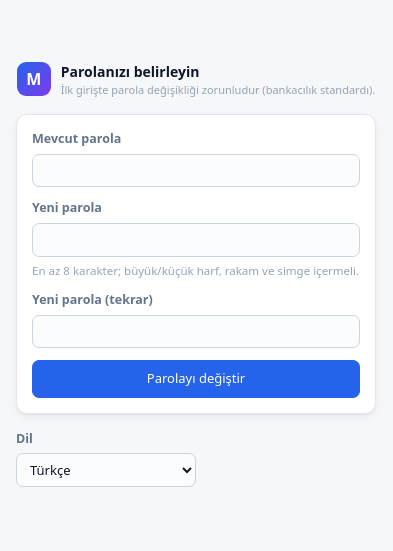
first-run bootstrap change-password (banking standard) › shows the policy violations the BFF returns, in Turkish
The image size is (393, 551).
Type "admin123" into the password field labelled "Mevcut parola" at [196, 171], box [32,154,360,187]
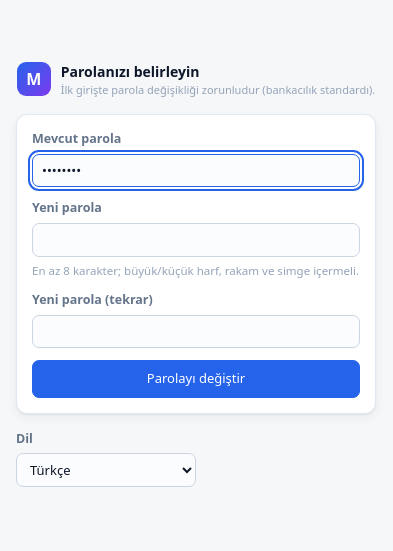
Type "admin123" into the password field labelled "Yeni parola" at [196, 240], box [32,223,360,257]
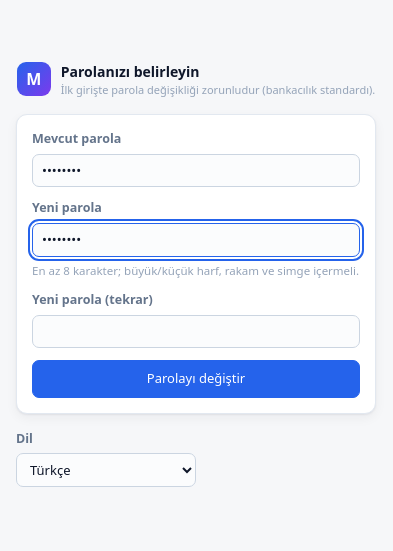
Type "admin123" into the password field labelled "Yeni parola (tekrar)" at [196, 331], box [32,315,360,348]
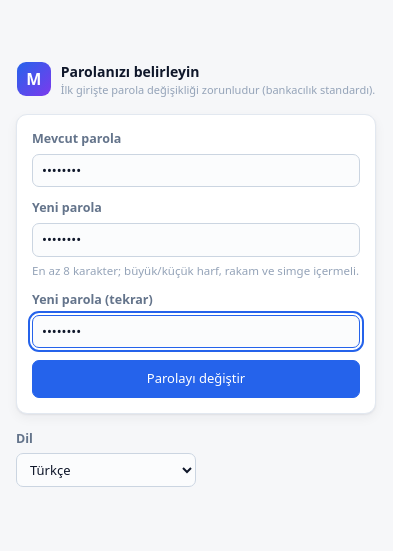
Click the button "Parolayı değiştir" at [196, 379], box [32,360,360,398]
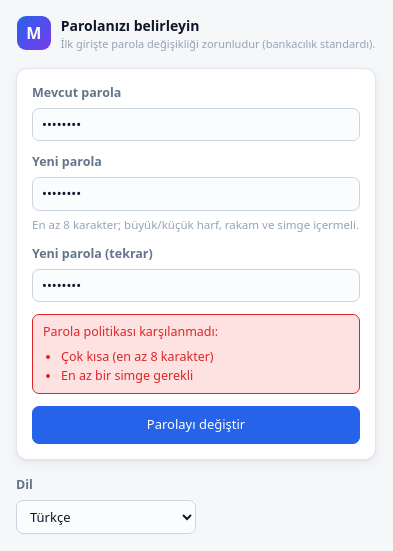
Result: the list item "Çok kısa (en az 8 karakter)" is shown at [61,348,214,365]
Result: the list item "En az bir simge gerekli" is shown at [61,366,193,384]
